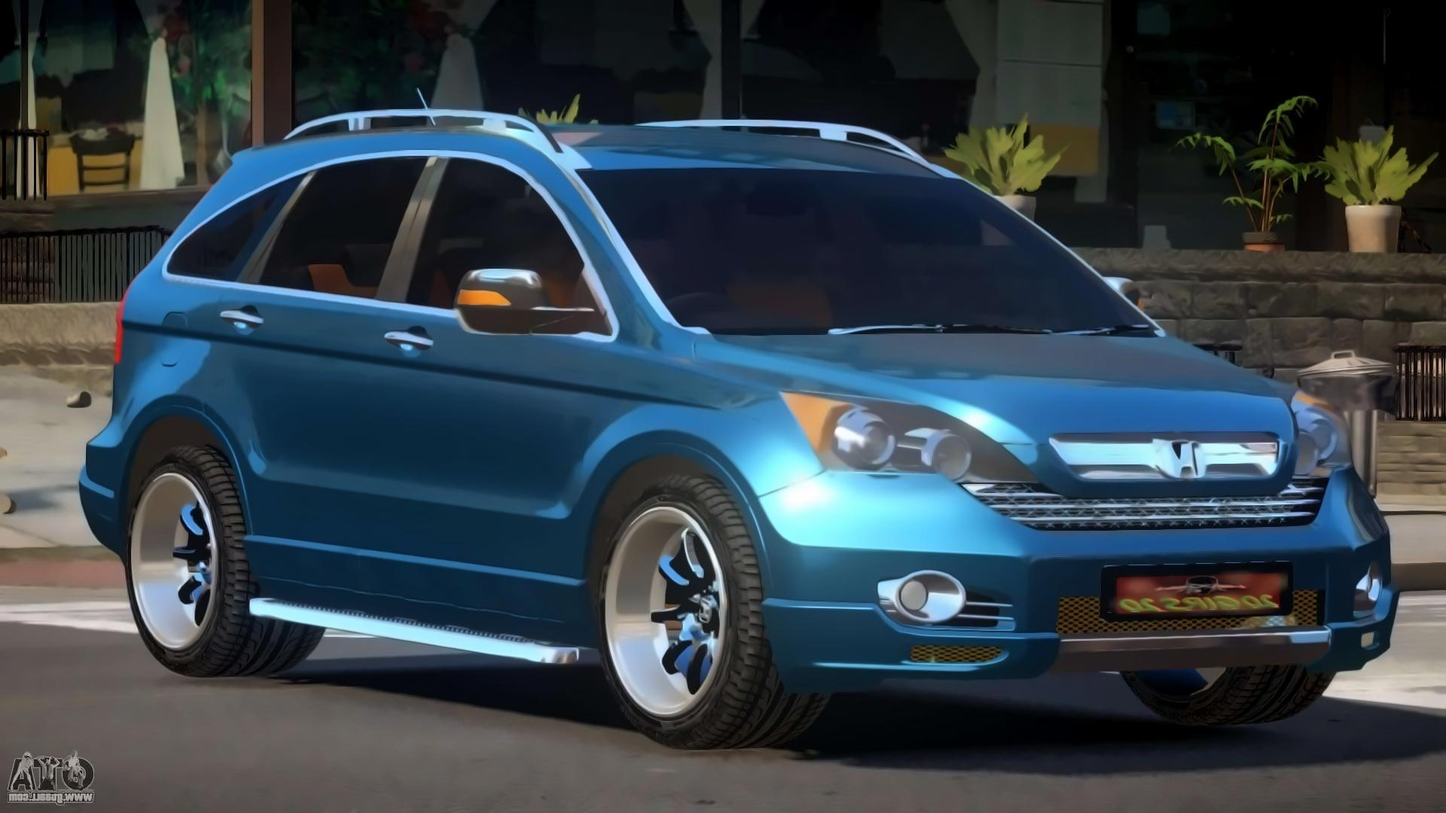Car hood: (684, 329, 1300, 447)
Driver-s door - -F-R-: (368, 95, 612, 687)
Fender - -F-R-: (555, 292, 818, 577)
Fender - -R-R-: (89, 223, 236, 472)
Front bumper: (749, 469, 1396, 696)
Headlight - -L-: (1284, 380, 1353, 488)
Headlight - -R-: (785, 385, 1044, 493)
Passenger-s door - -R-R-: (187, 114, 424, 650)
Rear bumper: (58, 417, 140, 553)
Rear light - -R-: (107, 272, 129, 379)
Side bumper - -R-: (247, 547, 608, 680)
Side mirror - -R-: (458, 269, 603, 339)
